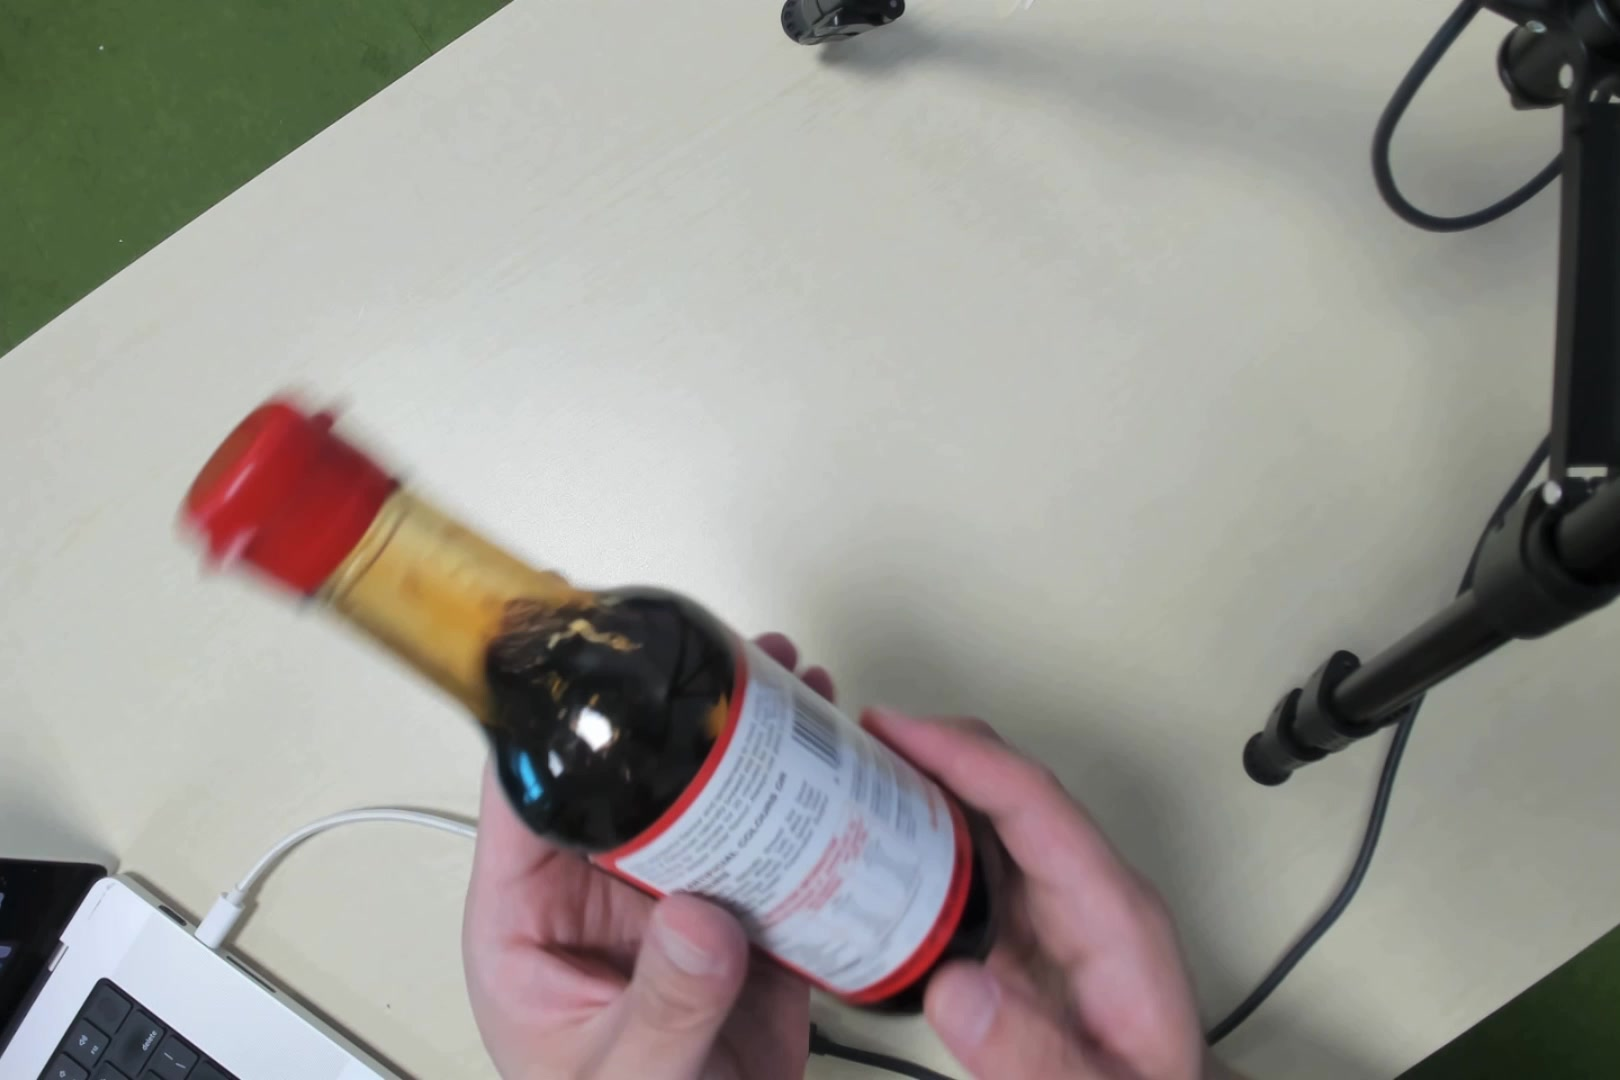OtherSauceDressingSoupbasePaste_200-299g_NonHalal_NonHealthy: (340, 422, 968, 996)
